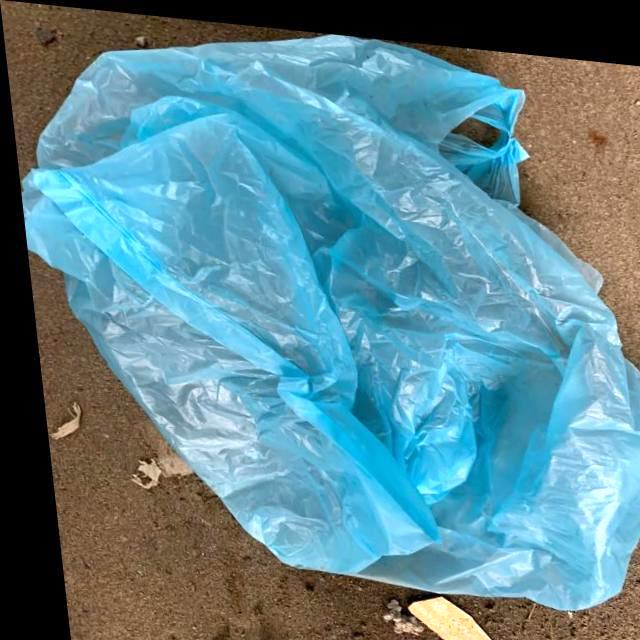polythene: (107, 55, 517, 516)
